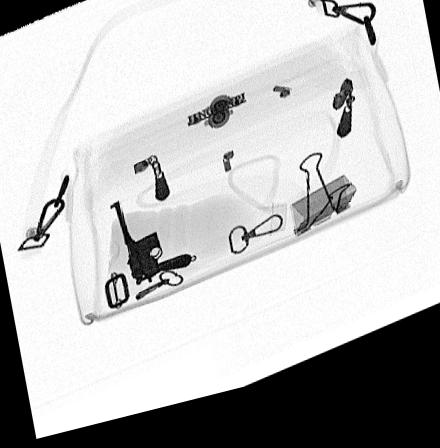Gun: (109, 204, 194, 294)
